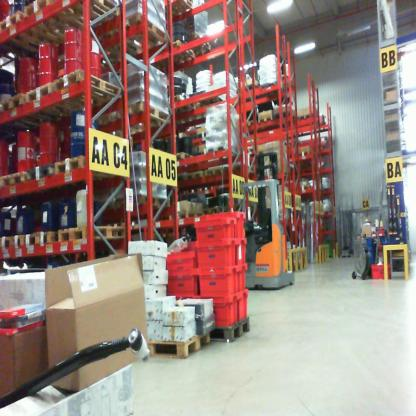forklift: (236, 143, 302, 291)
pallet: (56, 73, 119, 109), (119, 9, 163, 56), (120, 96, 170, 135), (27, 79, 66, 122), (148, 333, 210, 360), (60, 223, 125, 247), (56, 152, 102, 182), (26, 2, 70, 33), (63, 0, 111, 22), (1, 16, 34, 48), (212, 320, 249, 342), (133, 194, 173, 214), (25, 228, 56, 251), (168, 43, 193, 68), (27, 167, 55, 186), (2, 93, 24, 117), (170, 0, 194, 20), (187, 37, 211, 56), (2, 233, 24, 251), (4, 172, 27, 189), (172, 96, 193, 114), (104, 108, 122, 127), (176, 150, 195, 167)
small_load_carrier: (195, 287, 252, 331), (192, 207, 250, 241), (190, 212, 237, 241), (194, 239, 237, 269), (198, 262, 236, 292), (162, 249, 201, 275), (163, 274, 201, 299), (235, 264, 251, 289), (369, 260, 389, 280), (235, 237, 249, 264)
